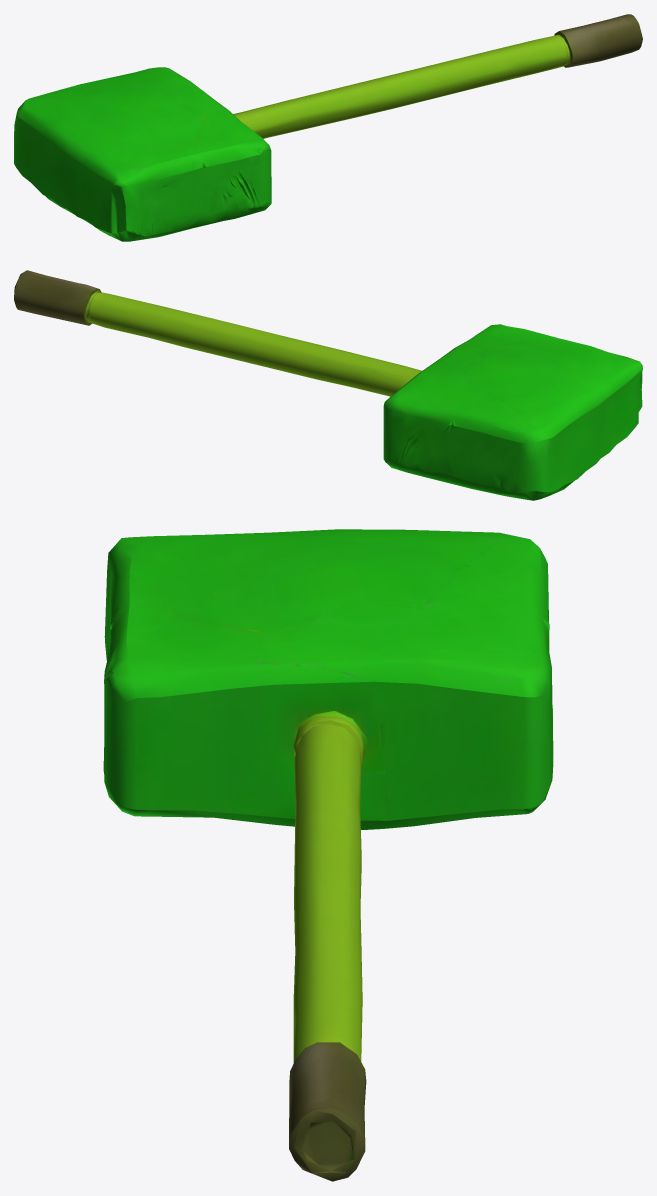
File: aquariumScrubber.glb
3 renders of one model, top to bottom at view 1: azimuth 30°, elevation 25°; view 2: azimuth 150°, elevation 25°; view 3: azimuth 270°, elevation 25°, orthographic. The views are drawn at different scales.
Visible parts, largest first — view 1: model; view 2: model; view 3: model.
Boxes of the visible parts, bbox=[...] form: model: bbox=[14, 14, 642, 241]; model: bbox=[14, 270, 642, 500]; model: bbox=[103, 529, 553, 1181].
Size of the model in its own units: 1.9 by 0.2972 by 0.645.
1 material, 1 textured.
